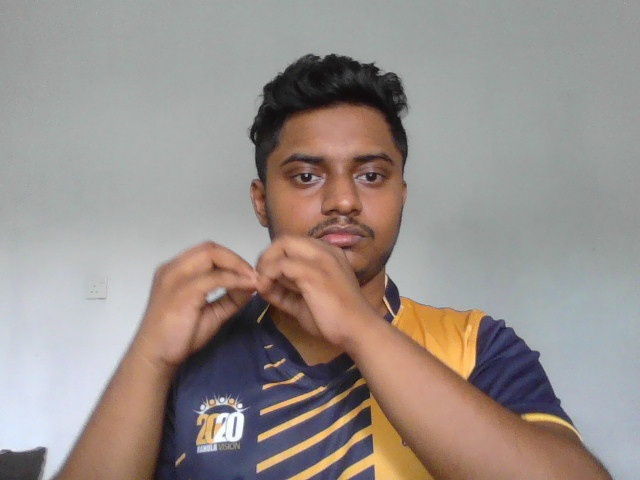More: (143, 232, 359, 376)
